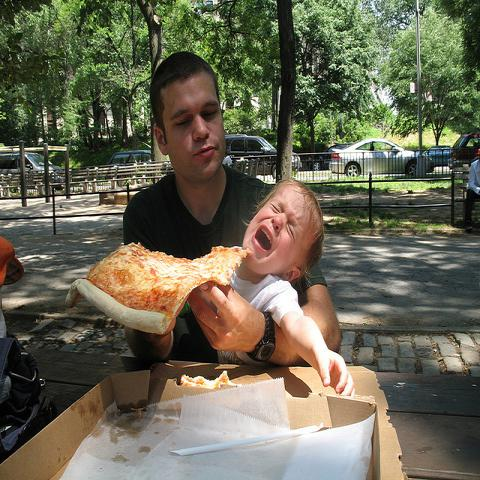car: (328, 138, 418, 178), (225, 132, 300, 179), (0, 152, 57, 174), (450, 131, 479, 162), (108, 148, 154, 165), (423, 145, 454, 168), (306, 146, 330, 171)
